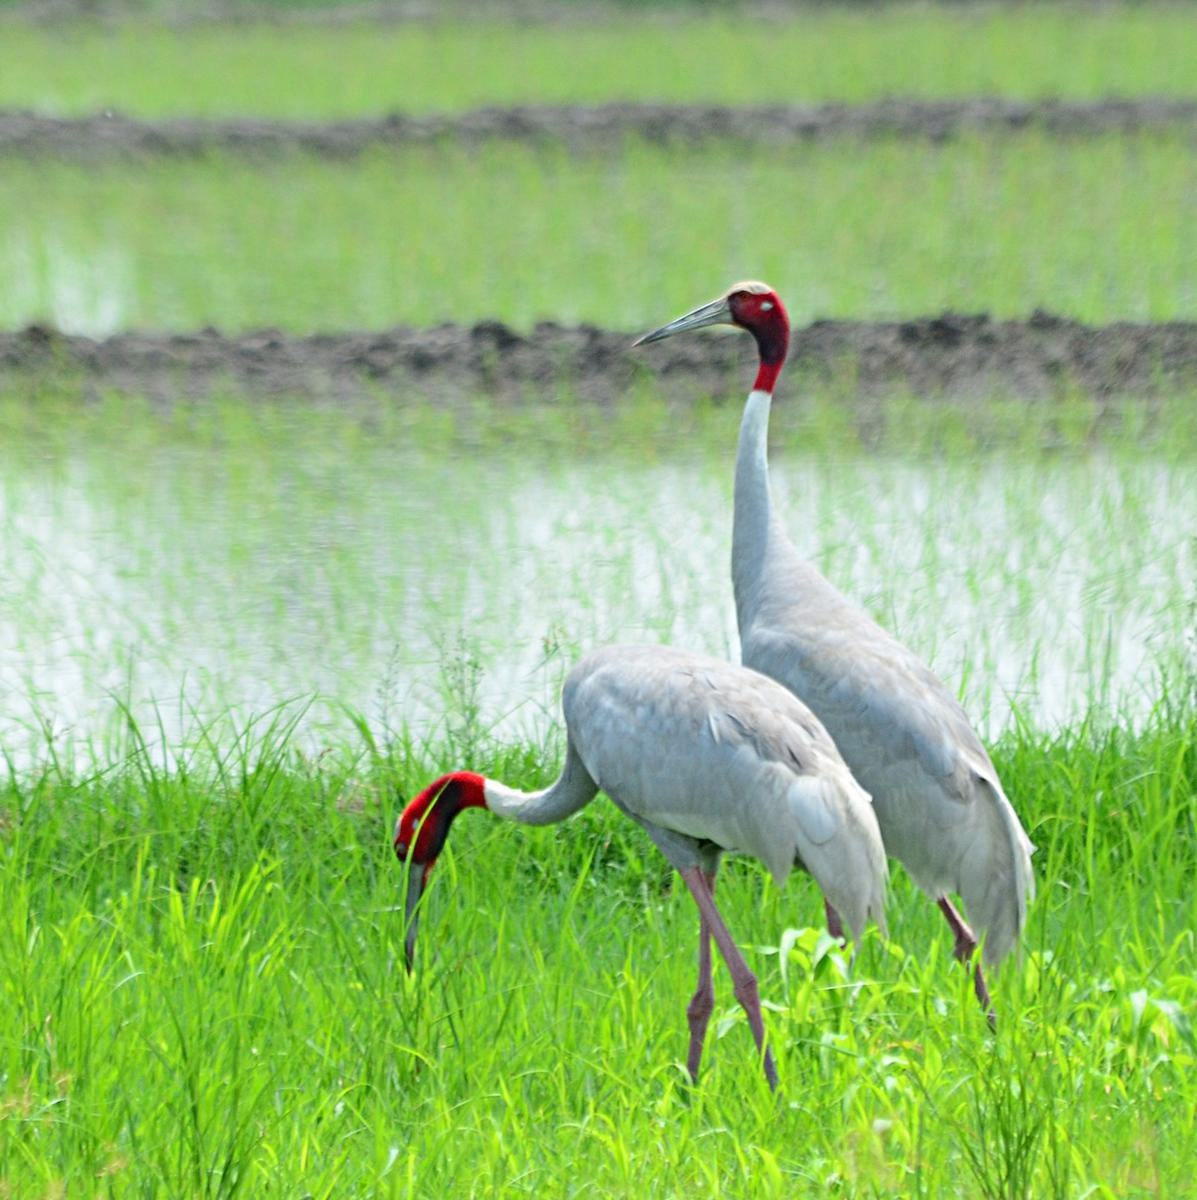crane: (634, 253, 1053, 1038), (394, 649, 860, 1131)
